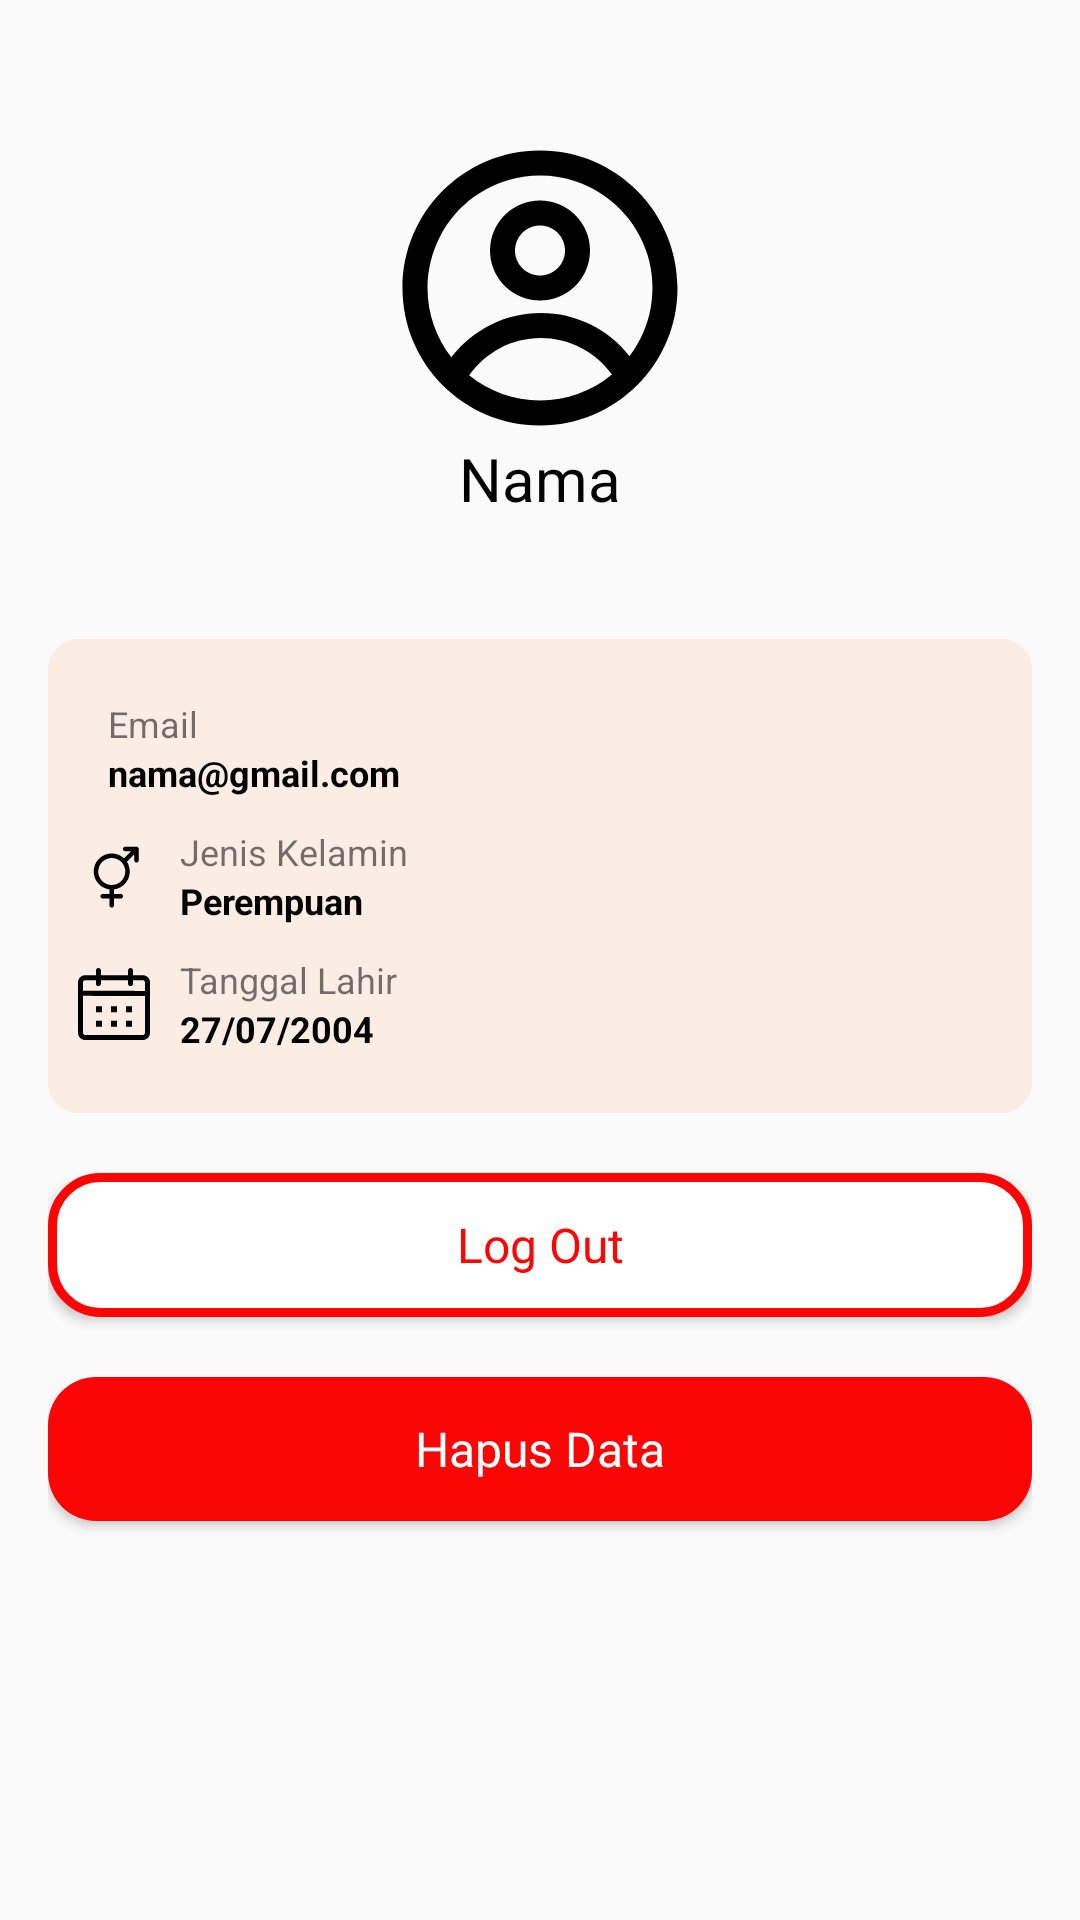

Icon bounding boxes for this 1080×1920 phone screenshot, format (x1, y1, x2, y2):
date: (78, 968, 150, 1040)
gender: (93, 846, 139, 908)
